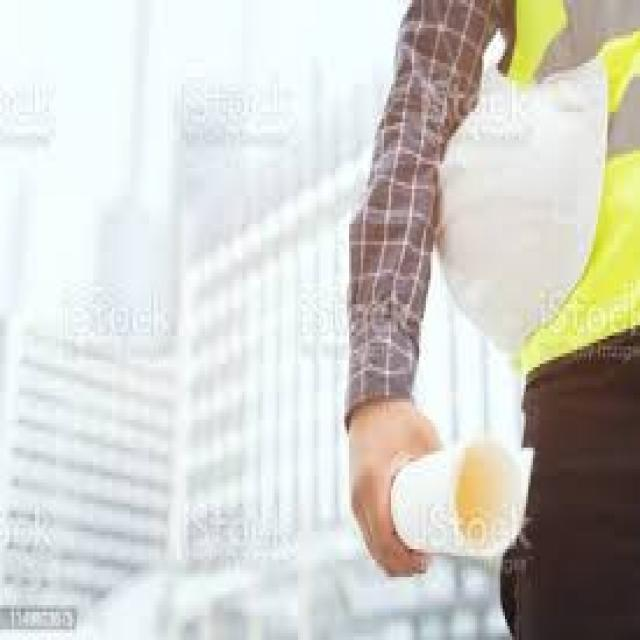safety_helmet: (403, 49, 625, 364), (495, 6, 639, 402)
